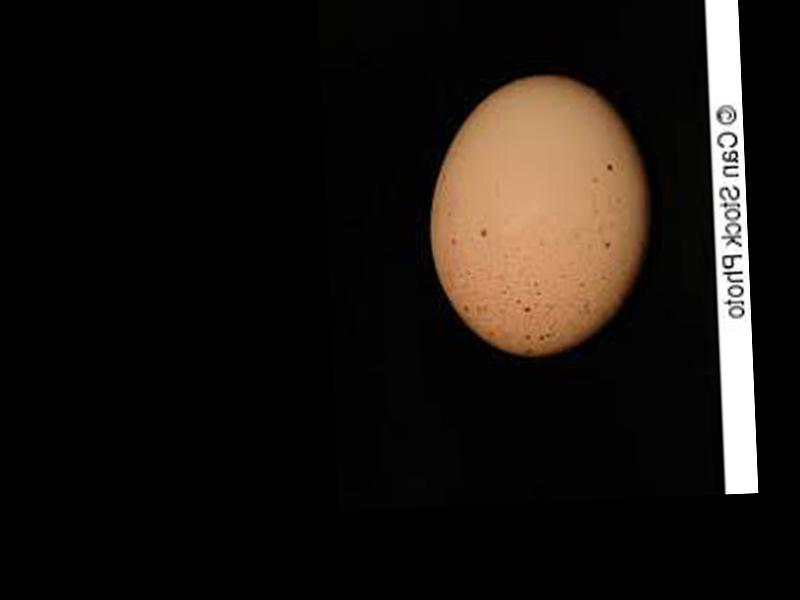Eggs: (425, 70, 657, 358)
